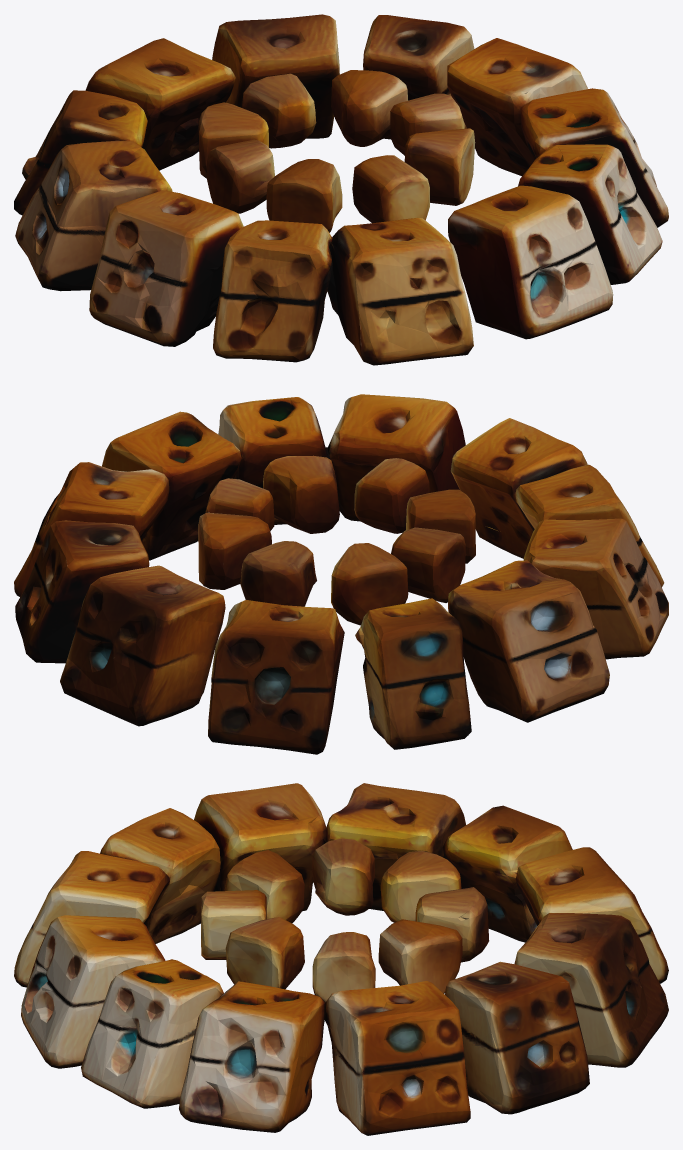
File: coconut-shell-dominoes-vintage.jpeg.glb
3 renders of one model, top to bottom at view 1: azimuth 30°, elevation 25°; view 2: azimuth 150°, elevation 25°; view 3: azimuth 270°, elevation 25°, orthographic.
Parts seen in each view (by area): view 1: world; view 2: world; view 3: world.
Part boxes in pixels (x1,y1,x2,y2): world: [14, 14, 668, 365]; world: [14, 394, 668, 754]; world: [14, 783, 668, 1135].
Bounding box in the file's own units: 0.9959 × 0.2024 × 0.9952.
1 material, 1 textured.
